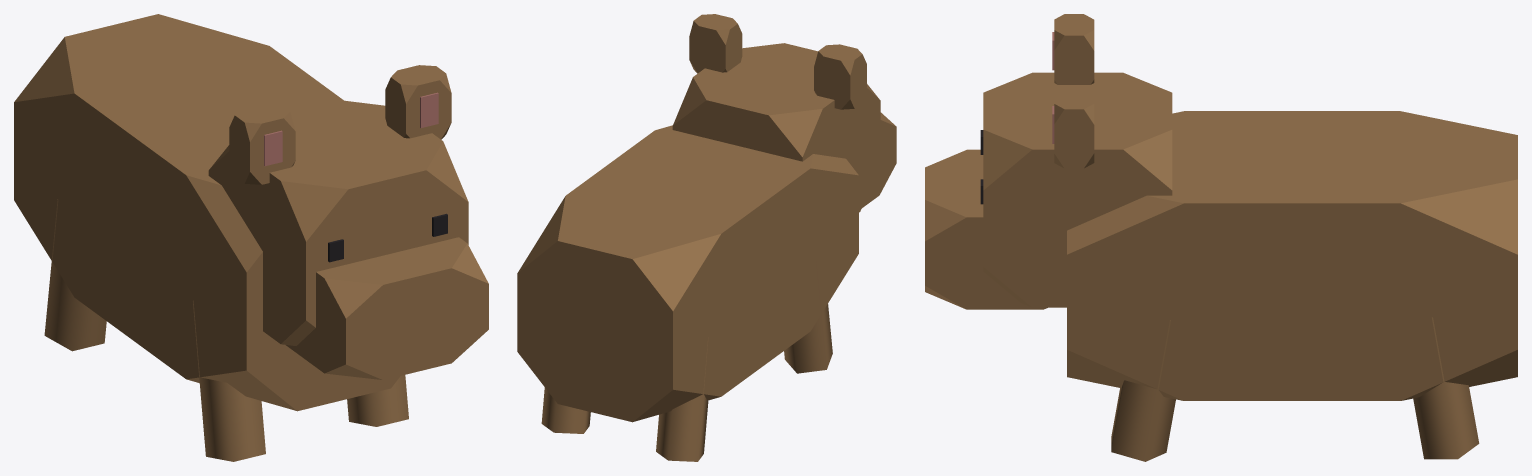
The model's file is original-capybara.glb.
3 views of the same model, side by side, from view 1: azimuth 30°, elevation 25°; view 2: azimuth 150°, elevation 25°; view 3: azimuth 270°, elevation 25° (orthographic). The views are drawn at different scales.
Visible parts, largest first — view 1: capybara; view 2: capybara; view 3: capybara.
Part boxes in pixels (x1,y1,x2,y2): capybara: [14, 14, 488, 461]; capybara: [517, 14, 896, 461]; capybara: [925, 14, 1517, 461].
Bounding box in the file's own units: 0.6201 × 1.08 × 1.63.
